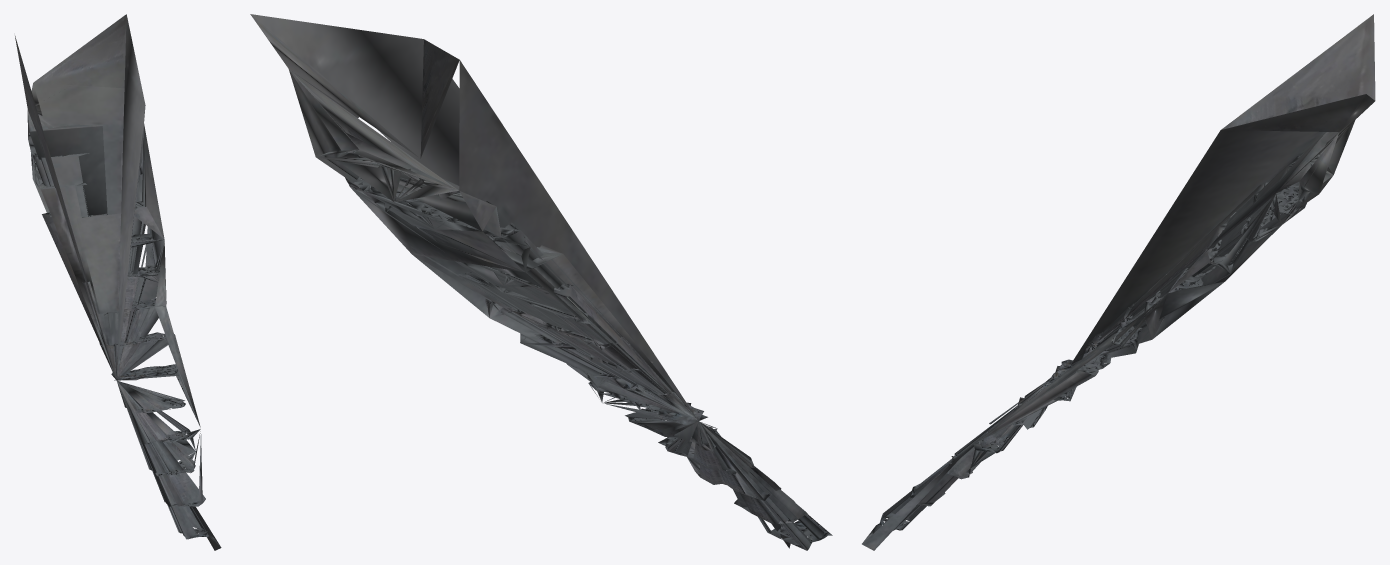
The model's file is level1-cellar-stairs.glb.
3 views of the same model, side by side, from view 1: azimuth 30°, elevation 25°; view 2: azimuth 150°, elevation 25°; view 3: azimuth 270°, elevation 25° (orthographic). The views are drawn at different scales.
Visible parts, largest first — view 1: tripo_node_512ff5d5-ab96-4032-ad15-6fc35b5b82f1; view 2: tripo_node_512ff5d5-ab96-4032-ad15-6fc35b5b82f1; view 3: tripo_node_512ff5d5-ab96-4032-ad15-6fc35b5b82f1.
Boxes of the visible parts, left/top/right/bottom form: tripo_node_512ff5d5-ab96-4032-ad15-6fc35b5b82f1: left=15, top=14, right=221, bottom=550; tripo_node_512ff5d5-ab96-4032-ad15-6fc35b5b82f1: left=250, top=14, right=832, bottom=550; tripo_node_512ff5d5-ab96-4032-ad15-6fc35b5b82f1: left=862, top=14, right=1375, bottom=550.
Size of the model in its own units: 0.3148 by 0.9423 by 0.8343.
Materials: 1 (1 with a texture image).
